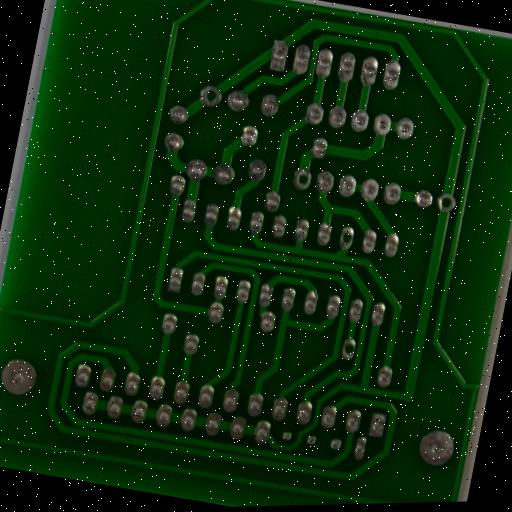missing_hole: (198, 83, 224, 109), (434, 192, 460, 215), (290, 169, 314, 191), (340, 339, 358, 360), (340, 229, 356, 248)
